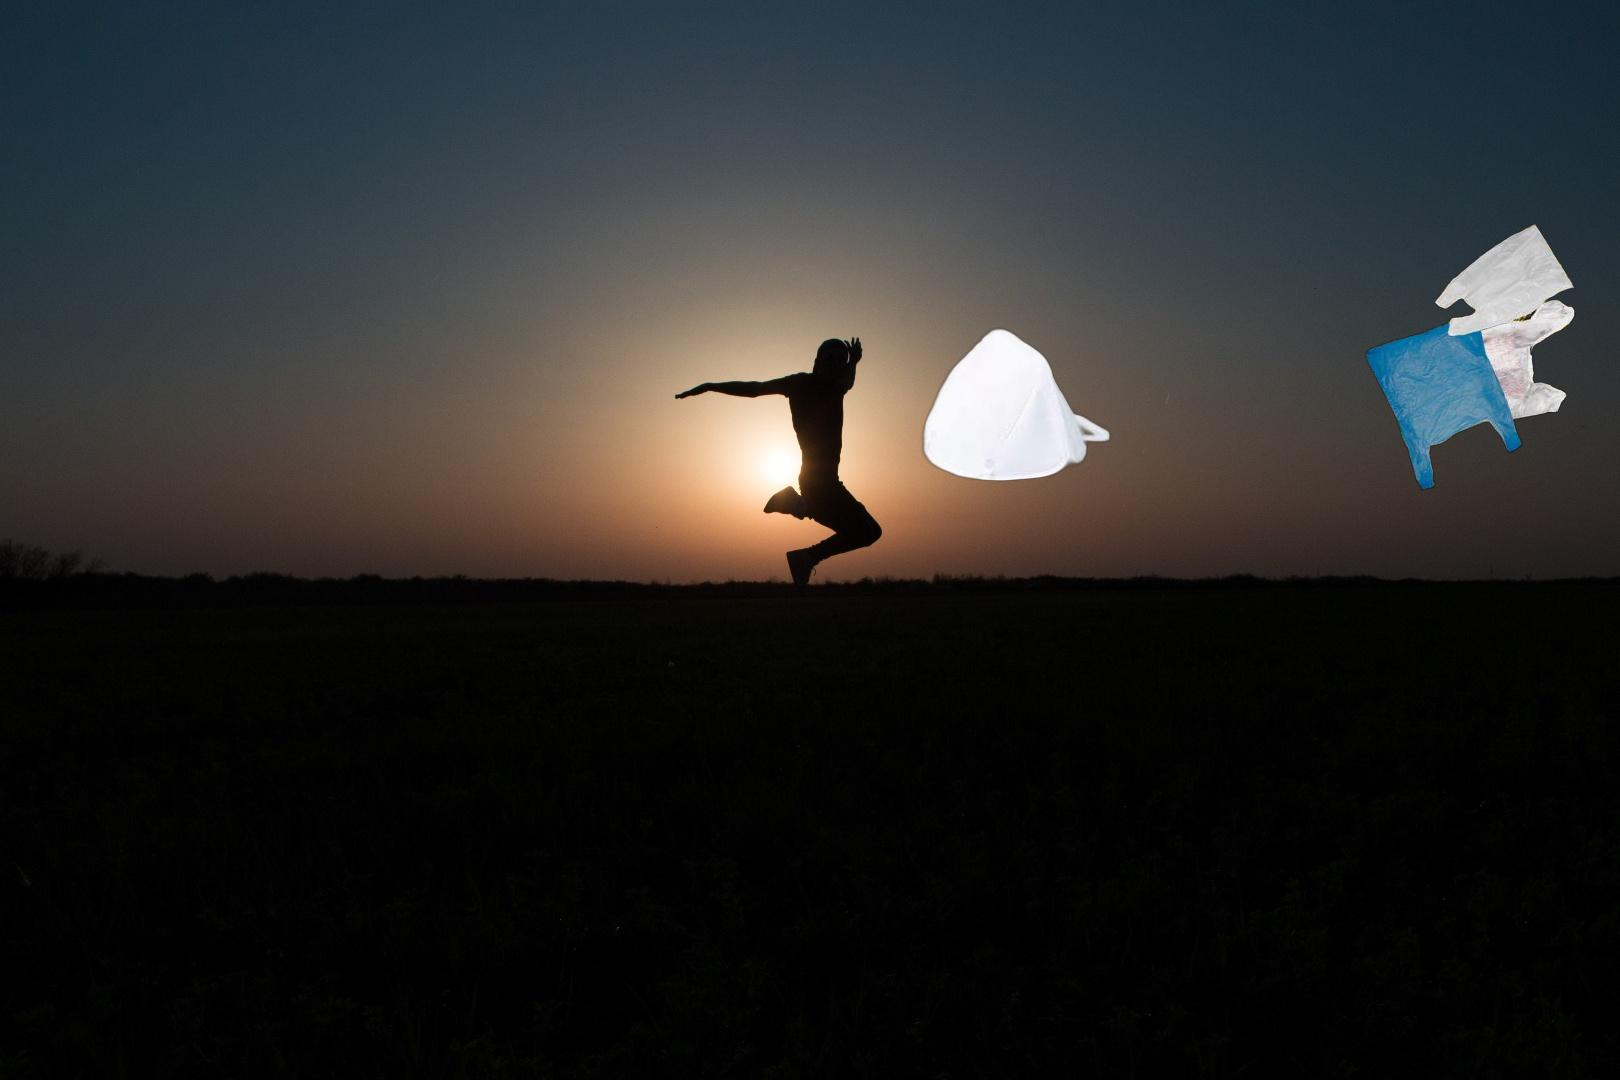plastic-bag: (1362, 222, 1578, 493)
trash: (918, 327, 1113, 485)
